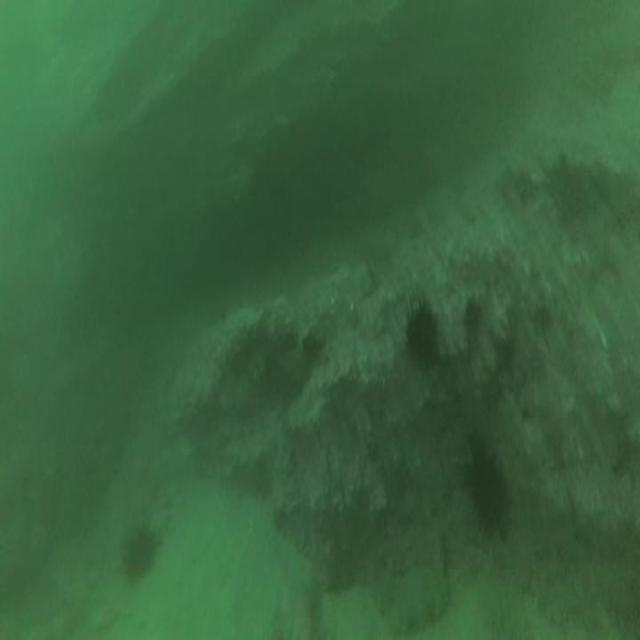echinus: (469, 442, 506, 528), (407, 308, 437, 368), (122, 528, 156, 580)
